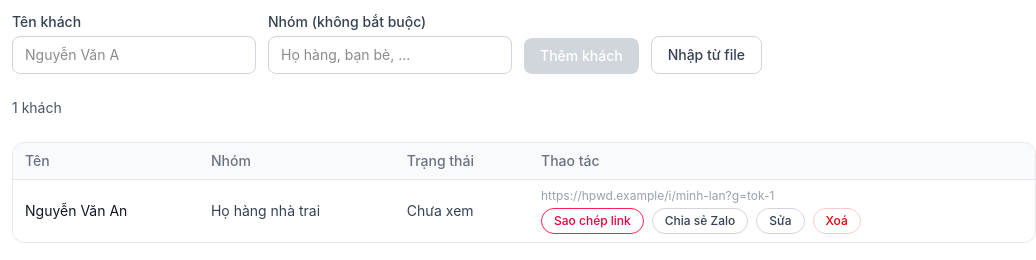
Test: GuestTable › xoá khách hỏi xác nhận rồi gọi DELETE và bỏ dòng khỏi bảng
Click the button "Xoá" at (837, 221), box [812,208,861,234]
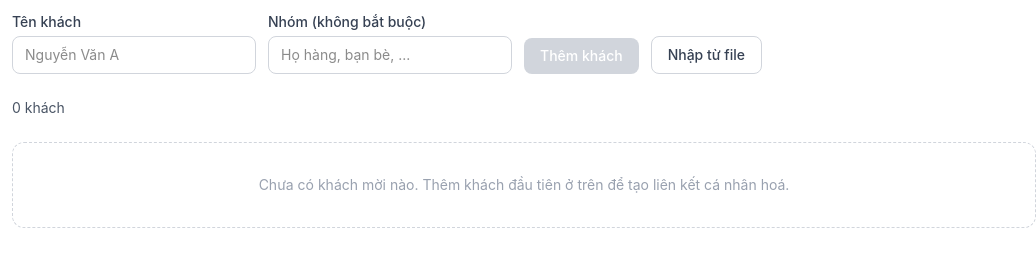
Result: the text "Nguyễn Văn An" is gone
